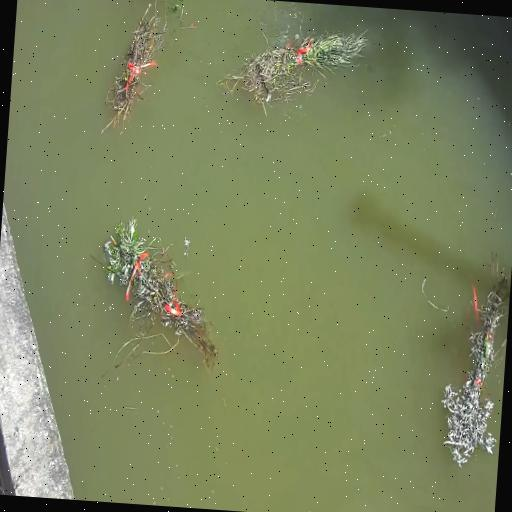twig: (92, 213, 228, 378), (435, 256, 512, 471), (227, 14, 373, 120), (101, 1, 167, 141), (143, 0, 189, 34)
